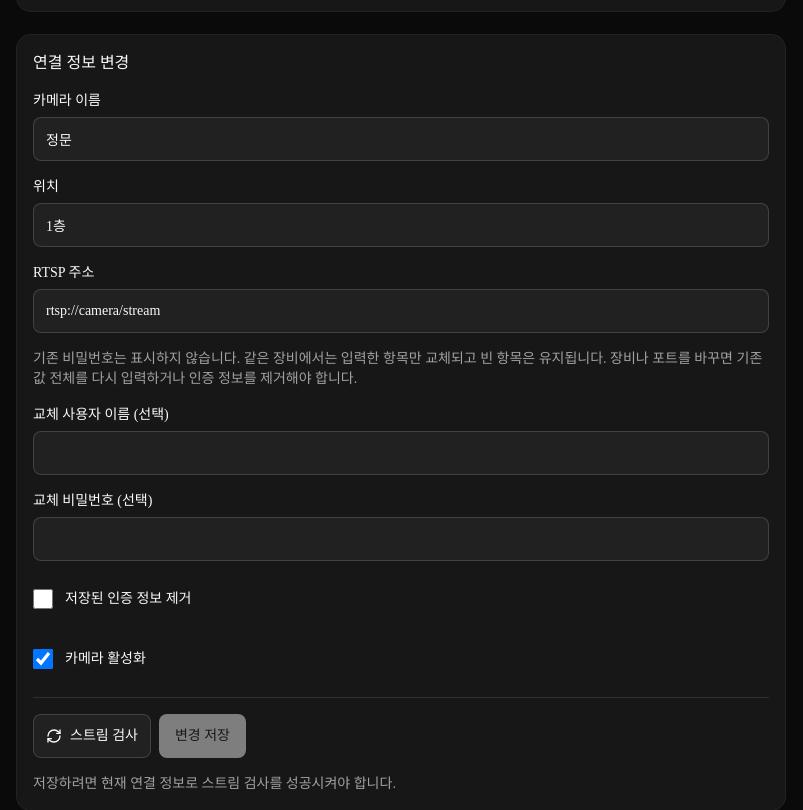
Test: CameraConnectionEditor › invalidates a successful transient test when the URL changes
(page scrolled)
Click the button "스트림 검사": [92, 736] box [33, 714, 151, 758]
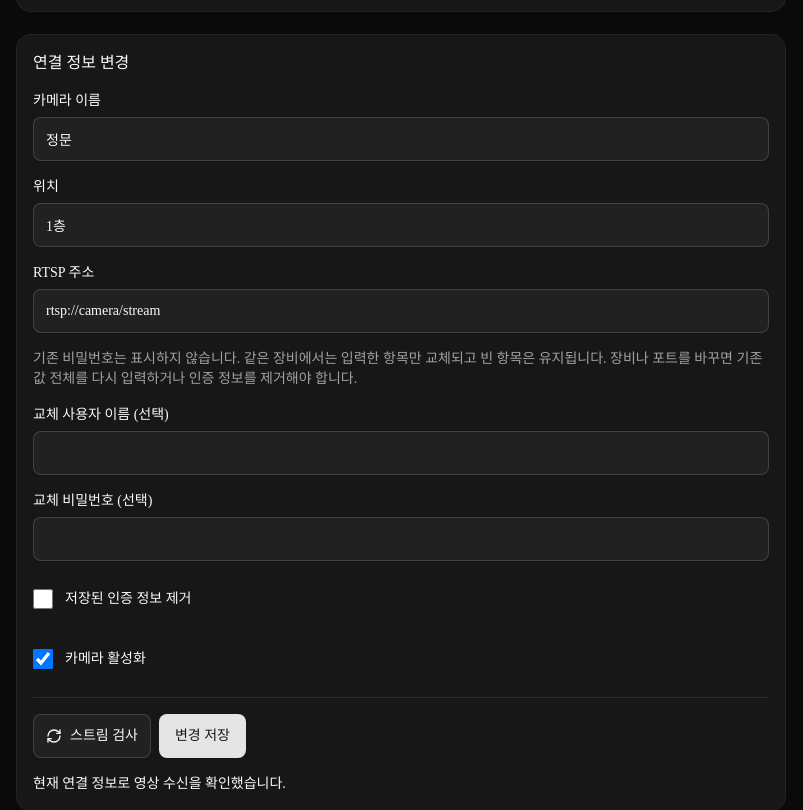
Expected: the button "변경 저장" is enabled, [159, 714, 246, 758]
In the field labelled "RTSP 주소": [401, 311] box [33, 289, 769, 333], type "?new"
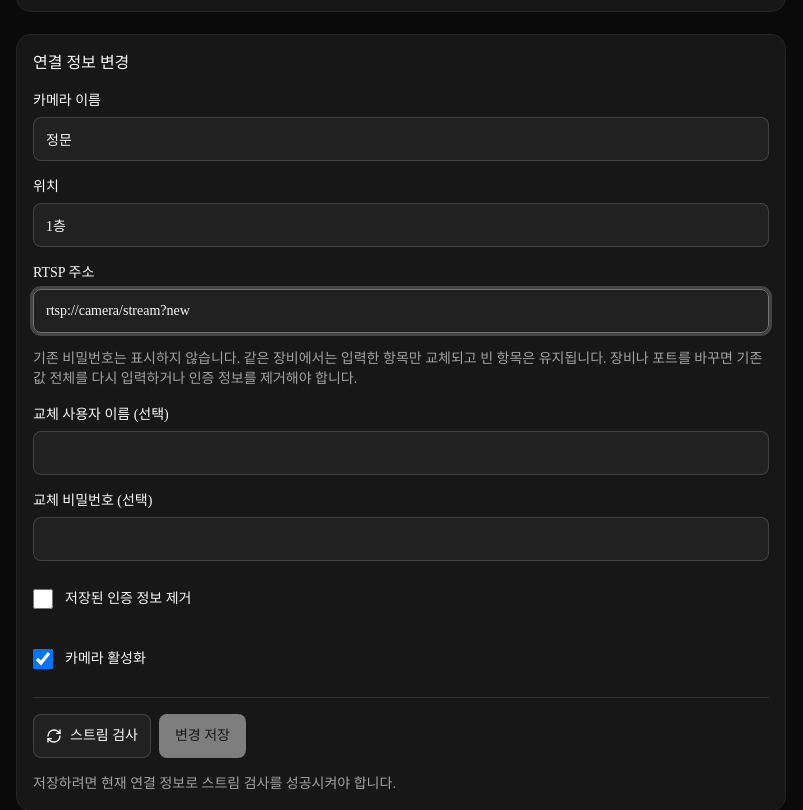
Expected: the button "변경 저장" is disabled, [159, 714, 246, 758]
Expected: the text "저장하려면 현재 연결 정보로 스트림 검사를 성공시켜야 합니다." is shown, [33, 776, 396, 791]
